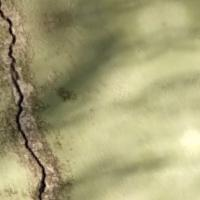crack: (0, 2, 68, 199)
